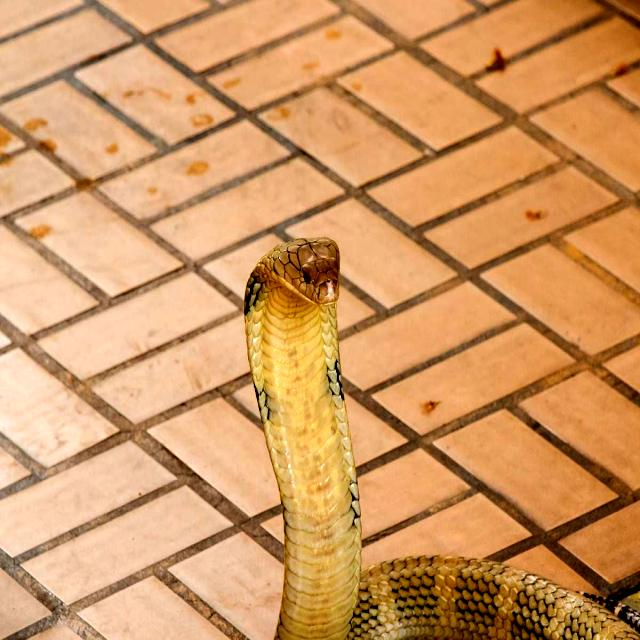Ophiophagus hannah: (245, 238, 639, 639)
snake: (245, 238, 639, 639)
